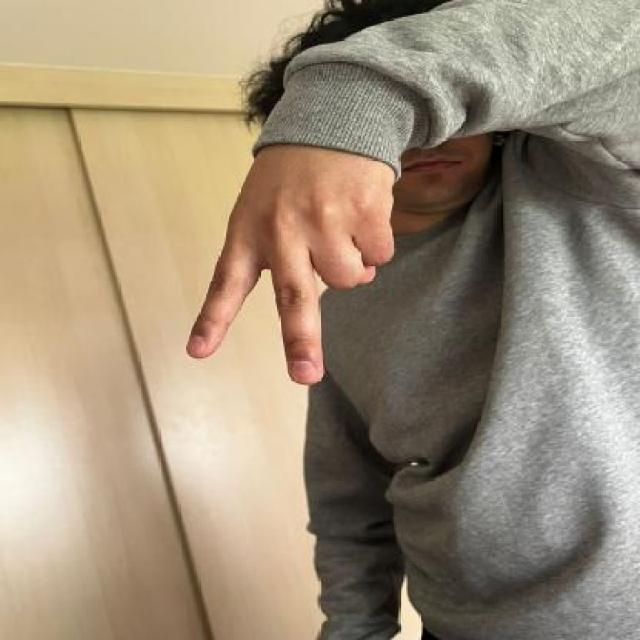N: (189, 128, 409, 388)
